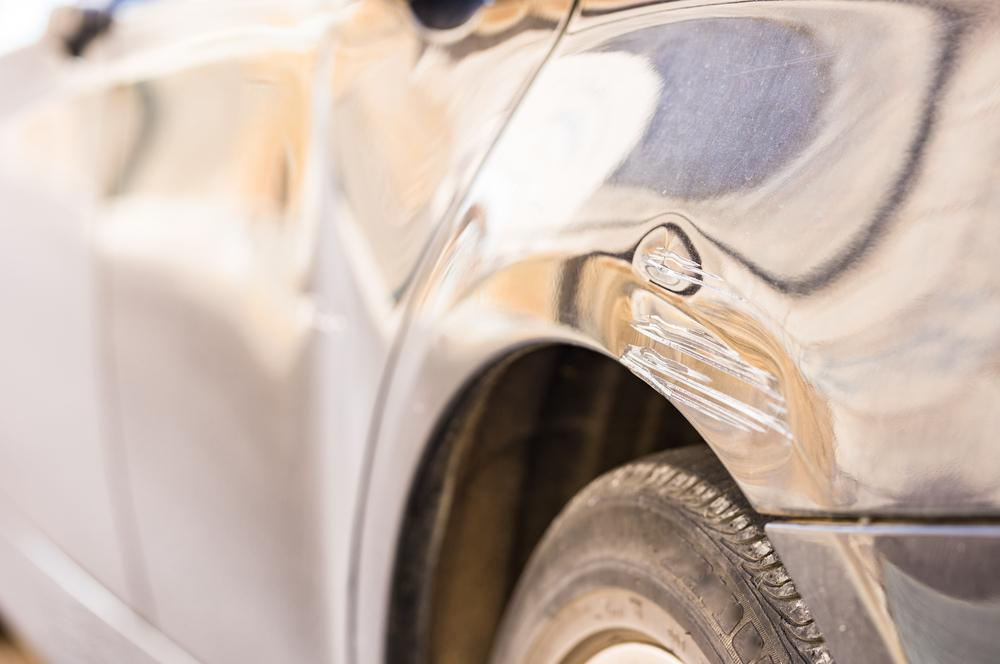dent: (456, 221, 806, 490)
